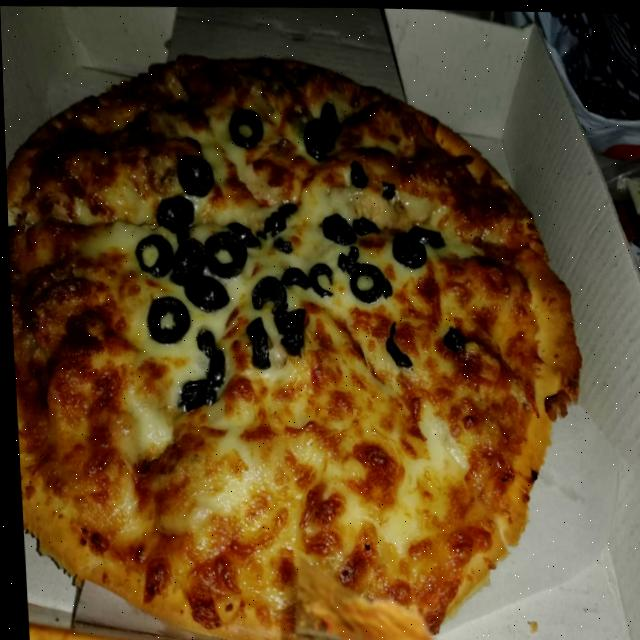black_olives: (173, 325, 225, 411), (141, 293, 188, 347), (199, 229, 247, 277), (164, 236, 205, 289), (270, 302, 307, 360), (131, 232, 174, 279), (180, 272, 228, 312), (251, 199, 297, 238), (174, 153, 212, 197), (226, 106, 263, 150), (301, 115, 337, 160), (152, 193, 194, 231), (345, 259, 382, 302), (388, 228, 426, 268), (243, 313, 270, 369), (248, 272, 284, 313), (382, 319, 412, 368), (319, 211, 355, 245), (222, 218, 260, 250), (304, 258, 332, 298), (406, 223, 443, 247), (278, 265, 308, 289), (335, 243, 358, 271), (440, 324, 463, 351), (321, 99, 337, 133), (348, 158, 367, 186), (349, 216, 377, 234), (268, 236, 290, 254), (172, 223, 189, 244), (380, 179, 395, 199), (382, 274, 390, 298)
pizza: (1, 45, 591, 640)
